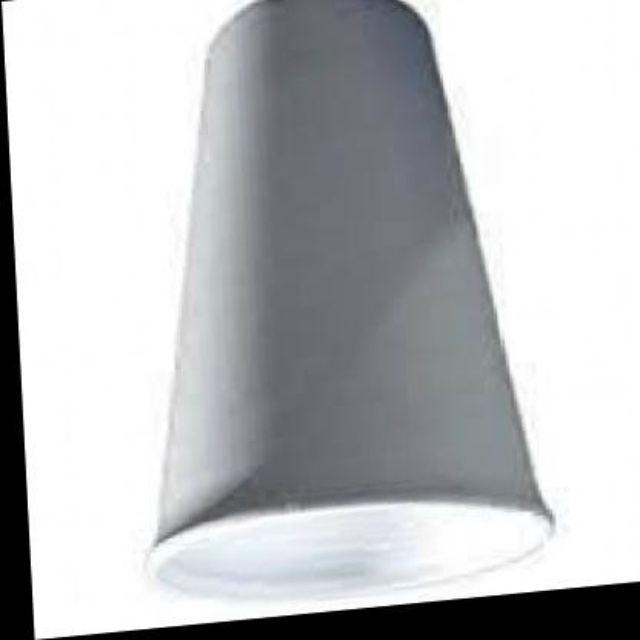trash: (151, 0, 551, 597)
